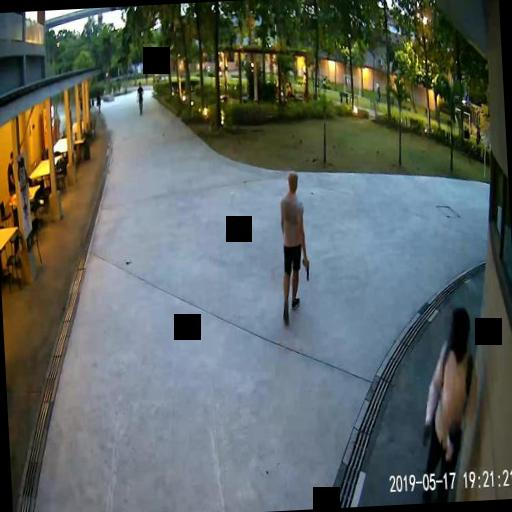Handgun: (301, 256, 308, 280)
